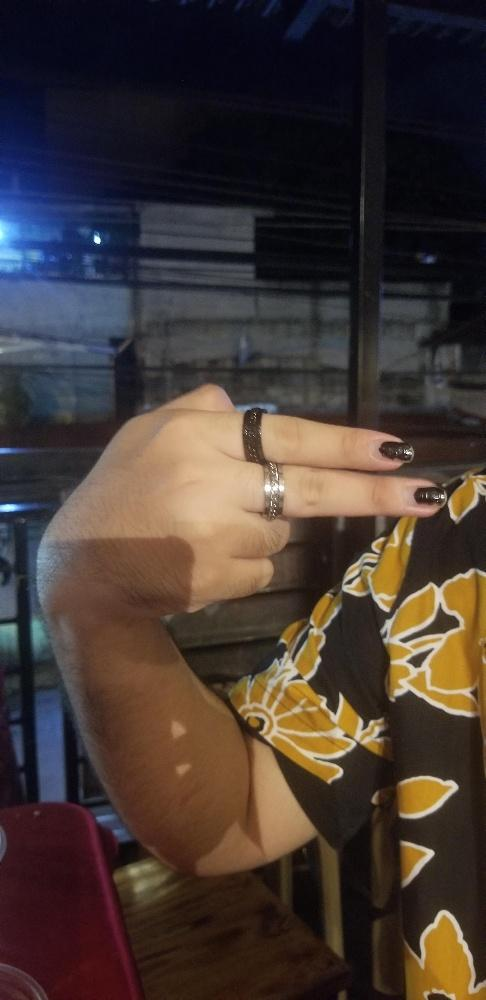h: (34, 377, 445, 624)
